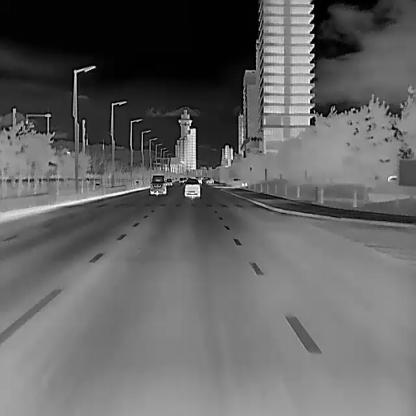car: (149, 173, 166, 194), (184, 177, 201, 198), (166, 178, 172, 184)
